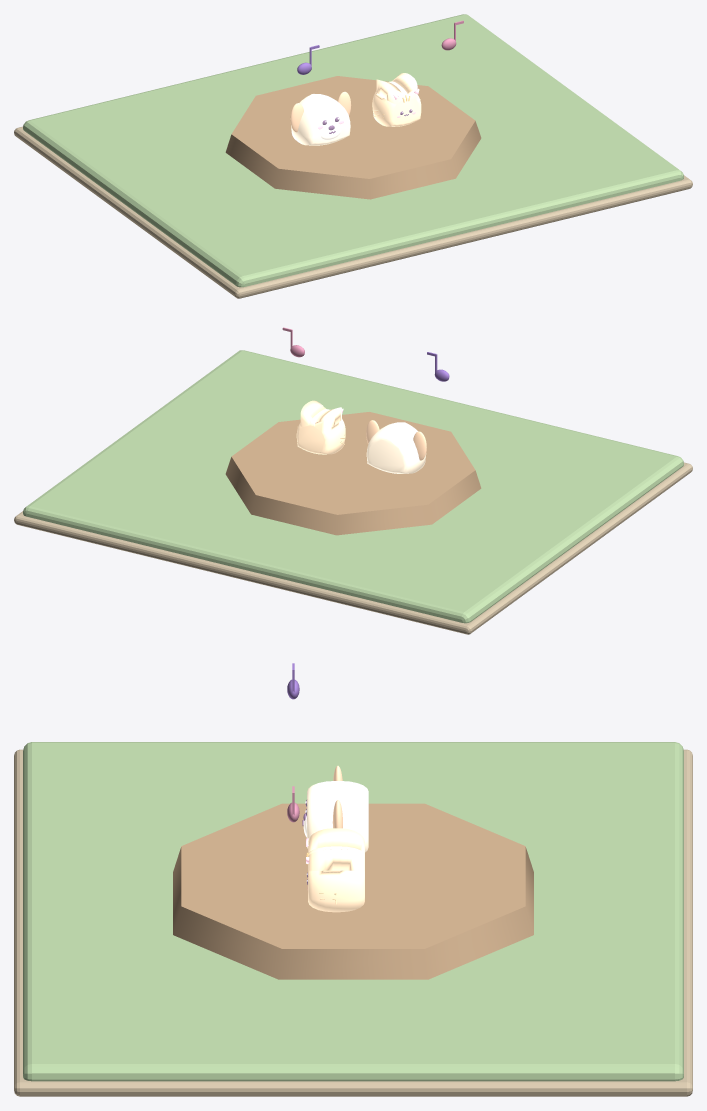
File: building_bandstand_L03.glb
The picture shows the model from 3 angles, top to bottom: view 1: azimuth 30°, elevation 25°; view 2: azimuth 150°, elevation 25°; view 3: azimuth 270°, elevation 25°; orthographic projection. The views are drawn at different scales.
Visible parts, largest first — view 1: bandstand_L3, Body, object 17, object 7, object 8; view 2: bandstand_L3, Body, object 7, object 17, object 8; view 3: bandstand_L3, Body, object 17, object 7.
Part boxes in pixels (x1,y1,x2,y2): bandstand_L3: (14,14,692,298); Body: (225,20,481,199); object 17: (372,73,421,126); object 7: (291,94,350,145); object 8: (290,91,351,132); bandstand_L3: (14,350,692,634); Body: (225,327,481,535); object 7: (366,422,426,473); object 17: (296,400,345,454); object 8: (366,420,426,460); bandstand_L3: (14,742,692,1096); Body: (173,663,533,979); object 17: (308,828,364,912); object 7: (307,781,368,852).
Size of the model in its own units: 26.61 by 8.08 by 22.6.
